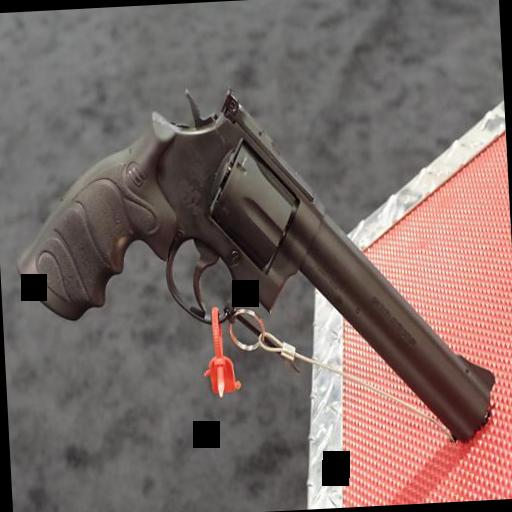Handgun: (7, 68, 490, 472)
